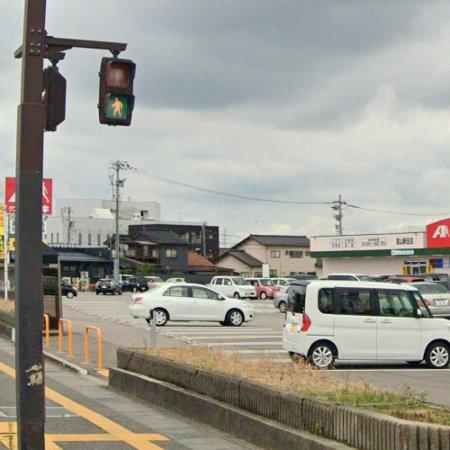traffic lights: (99, 57, 136, 126)
